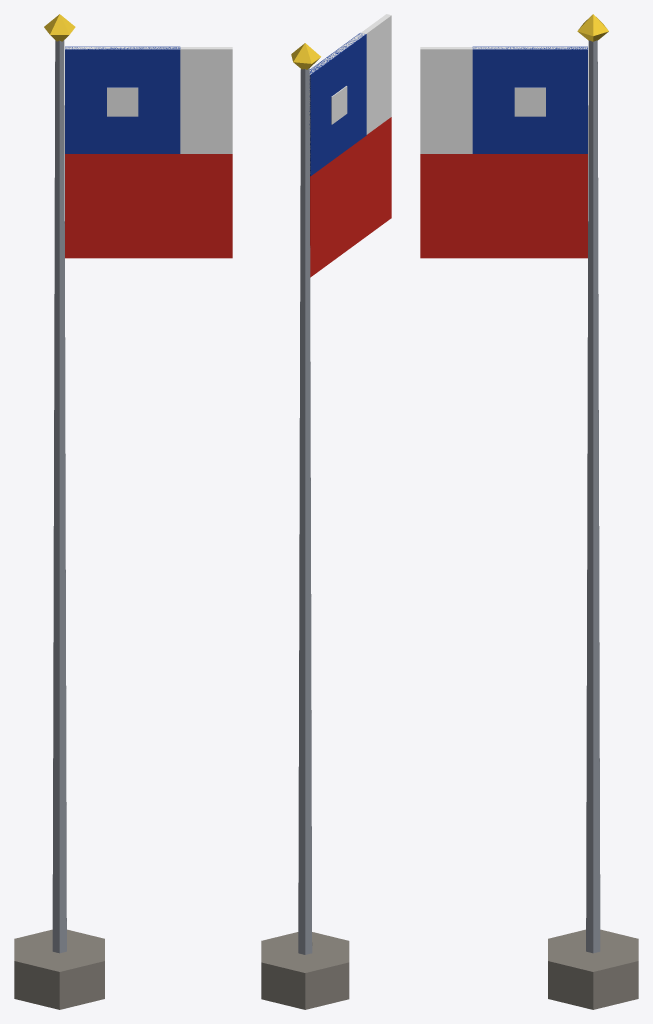
Rendered from bandera_chile.obj.
The picture shows the model from 3 angles, left to right: view 1: azimuth 90°, elevation 25°; view 2: azimuth 150°, elevation 25°; view 3: azimuth 270°, elevation 25°; orthographic projection. The views are drawn at different scales.
Parts seen in each view (by area): view 1: bandera_chile; view 2: bandera_chile; view 3: bandera_chile.
Part boxes in pixels (x1,y1,x2,y2): bandera_chile: (14, 14, 232, 1009); bandera_chile: (261, 14, 391, 1009); bandera_chile: (420, 14, 638, 1009).
Bounding box in the file's own units: 1 × 10.26 × 2.08.
